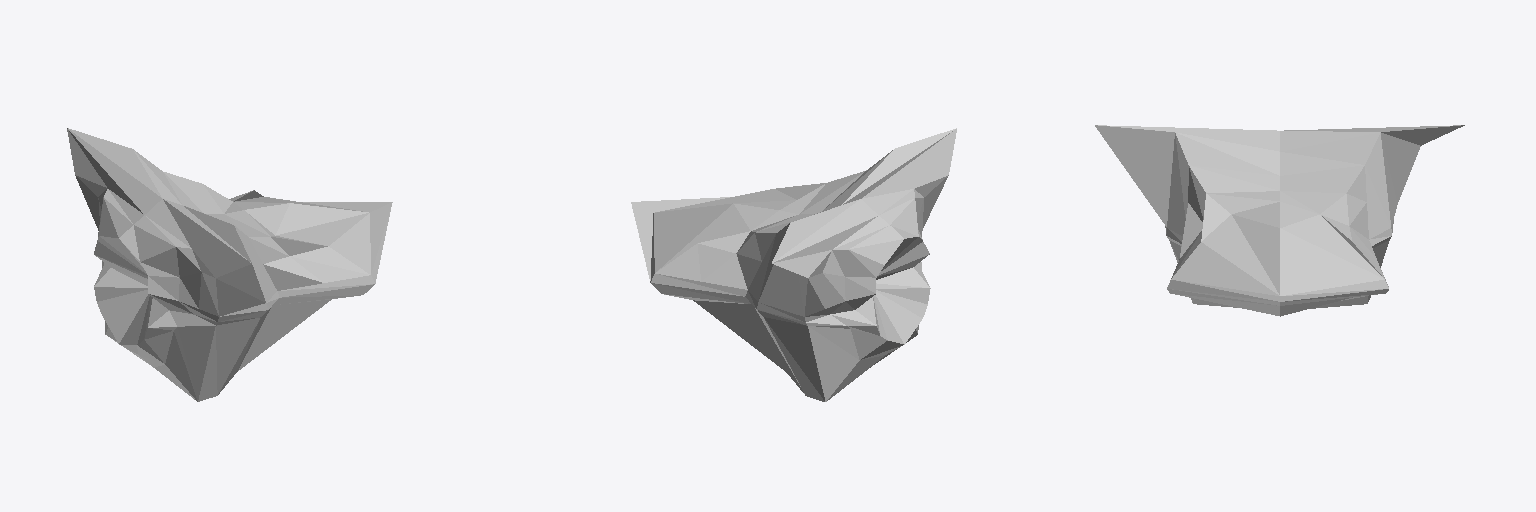
File: Ship.obj
3 renders of one model, left to right at view 1: azimuth 30°, elevation 25°; view 2: azimuth 150°, elevation 25°; view 3: azimuth 270°, elevation 25°, orthographic.
Parts seen in each view (by area): view 1: Cube; view 2: Cube; view 3: Cube.
Boxes of the visible parts, x1=… form: Cube: x1=67, y1=128, x2=392, y2=401; Cube: x1=631, y1=128, x2=956, y2=401; Cube: x1=1095, y1=125, x2=1464, y2=316.
Size of the model in its own units: 2.9 by 1.78 by 3.4.